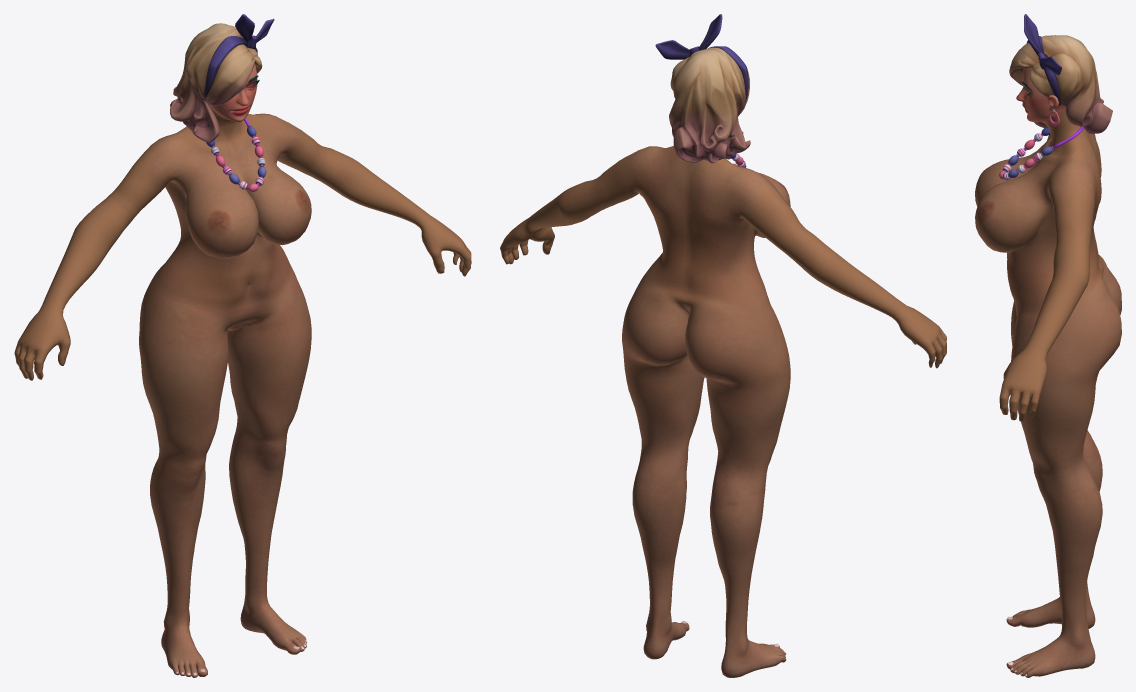
File: girl3.glb
3 renders of one model, left to right at view 1: azimuth 30°, elevation 25°; view 2: azimuth 150°, elevation 25°; view 3: azimuth 270°, elevation 25°, orthographic. The views are drawn at different scales.
Parts seen in each view (by area): view 1: Penny Body, Power Pop Hair; view 2: Penny Body, Power Pop Hair; view 3: Penny Body, Power Pop Hair.
Boxes of the visible parts, left/top/right/bottom form: Penny Body: left=14, top=63, right=471, bottom=677; Power Pop Hair: left=170, top=14, right=274, bottom=191; Penny Body: left=500, top=146, right=946, bottom=677; Power Pop Hair: left=655, top=14, right=750, bottom=167; Penny Body: left=975, top=67, right=1121, bottom=677; Power Pop Hair: left=999, top=14, right=1112, bottom=180.
Bounding box in the file's own units: 0.3957 × 0.5474 × 0.1148.
Materials: 11 (11 with a texture image).
